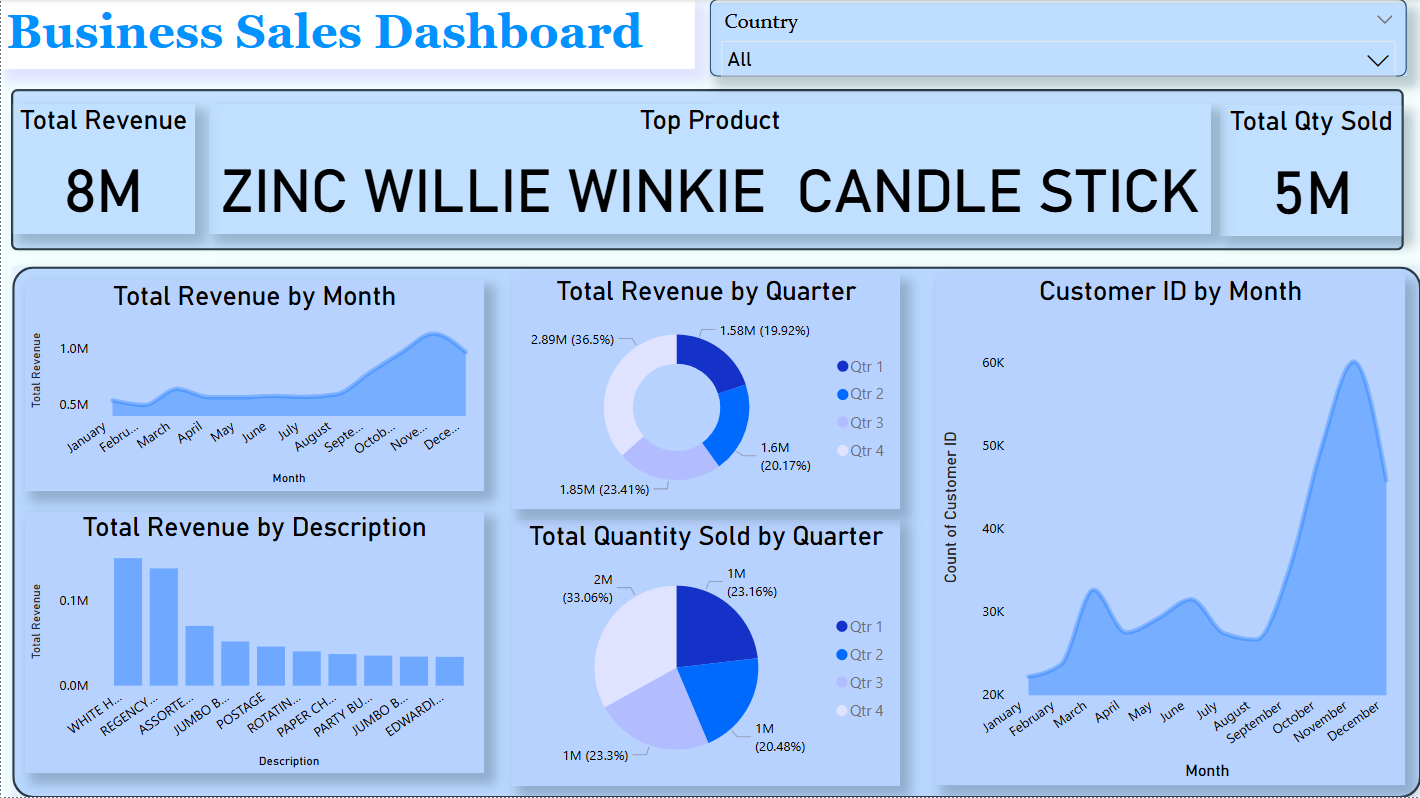

Layout of this report page (visuals, bound fields, positions):
{"tool":"powerbi","page":{"name":"Page 1","canvas":[1280,720],"ordinal":0},"visuals":[{"type":"shape","box":[8.6,80.7,1255.8,145.5],"z":0},{"type":"textbox","box":[0,0,625.7,63.1],"z":1000},{"type":"card","title":"Total Revenue","fields":{"Values":["Date Table.Total Revenue"]},"box":[9.6,94.7,164.7,116.6],"z":2000},{"type":"card","title":"Top Product","fields":{"Values":["Date Table.Top Product"]},"box":[186.6,94.7,904.3,116.6],"z":3000},{"type":"card","title":"Total Qty Sold","fields":{"Values":["Date Table.Total Quantity Sold"]},"box":[1099.3,95.4,165.1,117.4],"z":4000},{"type":"shape","box":[9.8,240.9,1270.5,479.4],"z":5000},{"type":"lineChart","fields":{"Category":["Date Table.Date.Variation.Date Hierarchy.Month"],"Y":["Date Table.Total Revenue"]},"box":[22,253.9,414.4,189.4],"z":6000},{"type":"columnChart","fields":{"Y":["Date Table.Total Revenue"],"Category":["Year 2009-2010.Description"]},"box":[22,462.4,414.4,236],"z":7000},{"type":"donutChart","fields":{"Y":["Date Table.Total Revenue"],"Category":["Date Table.Date.Variation.Date Hierarchy.Quarter"]},"box":[461,249.5,349.7,211.6],"z":8000},{"type":"shape","box":[639.5,0,628.5,70],"z":9000},{"type":"slicer","fields":{"Values":["Year 2009-2010.Country"]},"box":[639.5,3.7,628.5,66],"z":10000},{"type":"pieChart","fields":{"Y":["Date Table.Total Quantity Sold"],"Category":["Date Table.Date.Variation.Date Hierarchy.Quarter"]},"box":[461,470,349.4,238.9],"z":11000},{"type":"areaChart","title":"Customer ID by Month","fields":{"Y":["CountNonNull(Year 2009-2010.Customer ID)"],"Category":["Date Table.Date.Variation.Date Hierarchy.Month"]},"box":[842.5,249.5,423.1,459.8],"z":12000}]}

Visuals, with their boxes in screenshot pixels (x1, y1, x2, y2), scaled from the page's 1280x720 canvas onto the 1420x798 screenshot:
shape: 10:89:1403:251
textbox: 0:0:694:70
"Total Revenue" card: 11:105:193:234
"Top Product" card: 207:105:1210:234
"Total Qty Sold" card: 1220:106:1403:236
shape: 11:267:1419:797
lineChart - Date Table.Date.Variation.Date Hierarchy.Month x Date Table.Total Revenue: 24:281:484:491
columnChart - Date Table.Total Revenue x Year 2009-2010.Description: 24:512:484:774
donutChart - Date Table.Total Revenue x Date Table.Date.Variation.Date Hierarchy.Quarter: 511:277:899:511
shape: 709:0:1407:78
slicer - Year 2009-2010.Country: 709:4:1407:77
pieChart - Date Table.Total Quantity Sold x Date Table.Date.Variation.Date Hierarchy.Quarter: 511:521:899:786
"Customer ID by Month" areaChart: 935:277:1404:786
